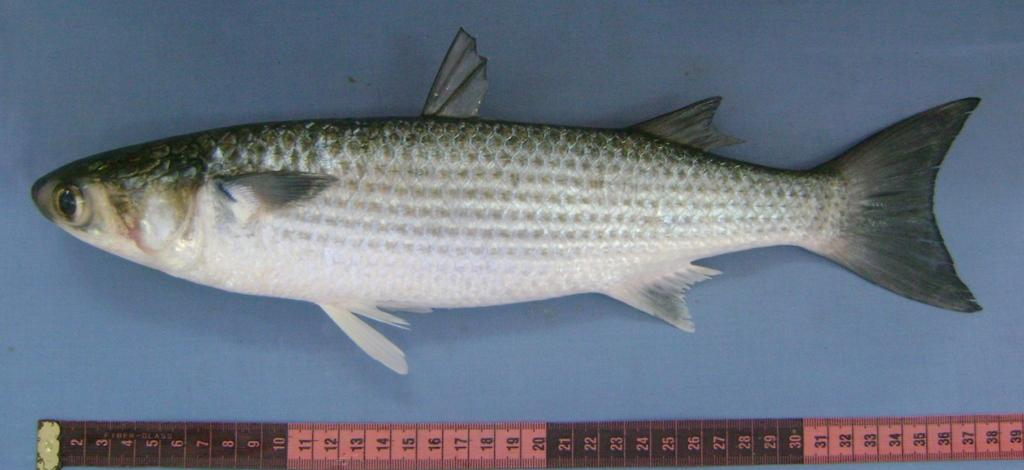Mullet: (28, 23, 992, 379)
